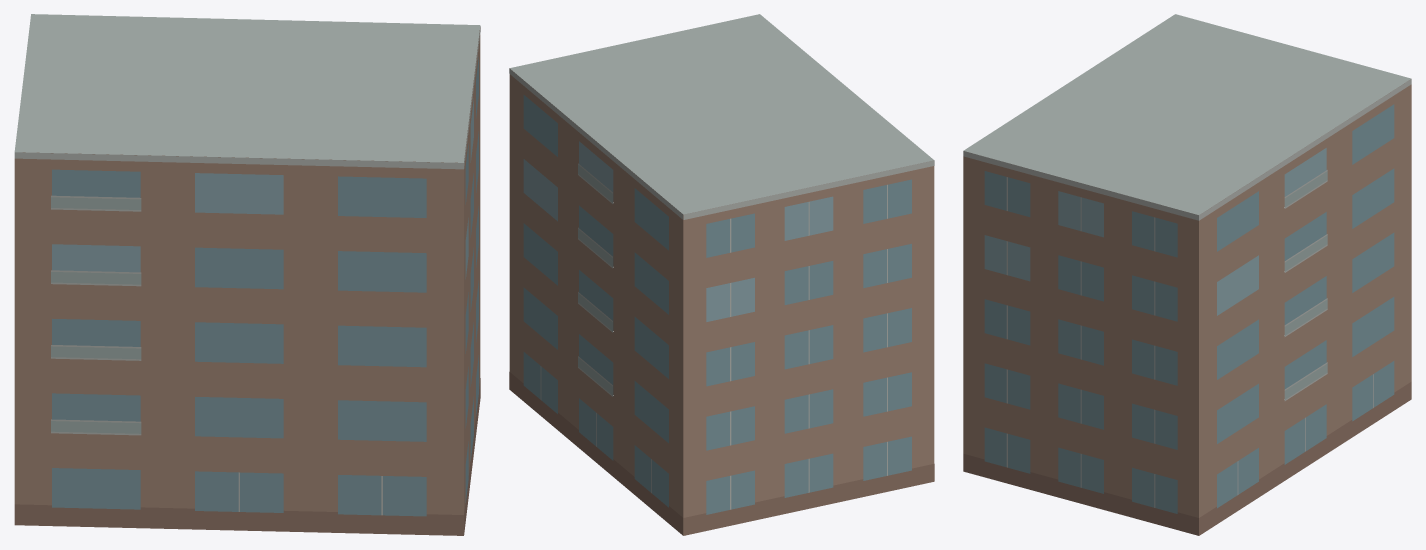
File: survey-upis-32747263.glb
3 views of the same model, side by side, from view 1: azimuth 30°, elevation 25°; view 2: azimuth 150°, elevation 25°; view 3: azimuth 270°, elevation 25° (orthographic). The views are drawn at different scales.
Parts seen in each view (by area): view 1: survey-upis-32747263.tmp; view 2: survey-upis-32747263.tmp; view 3: survey-upis-32747263.tmp.
Boxes of the visible parts, bbox=[...] form: survey-upis-32747263.tmp: bbox=[14, 14, 480, 535]; survey-upis-32747263.tmp: bbox=[509, 14, 934, 535]; survey-upis-32747263.tmp: bbox=[963, 14, 1411, 535].
Size of the model in its own units: 19.05 by 14.15 by 17.94.
